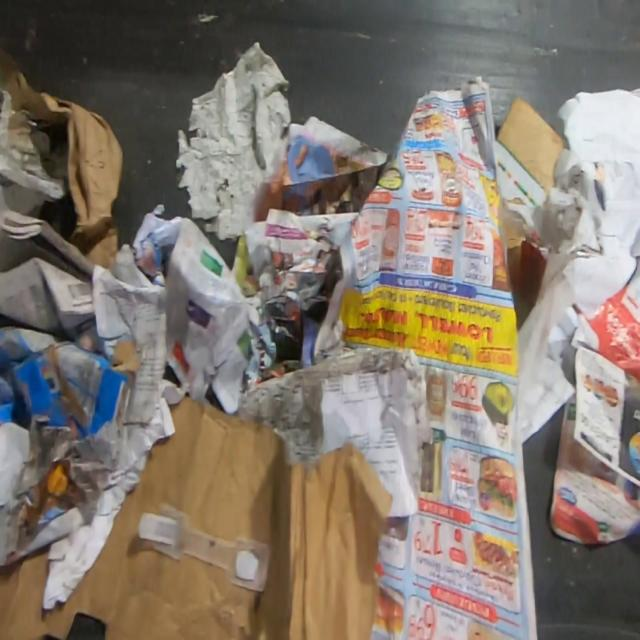cardboard: (0, 394, 394, 639), (0, 327, 141, 568), (8, 54, 124, 273), (494, 93, 567, 207), (500, 217, 546, 334)
